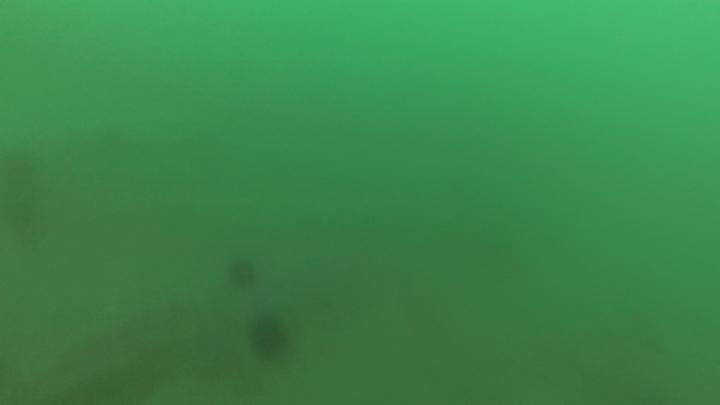echinus: (244, 312, 292, 365), (225, 256, 259, 293)
